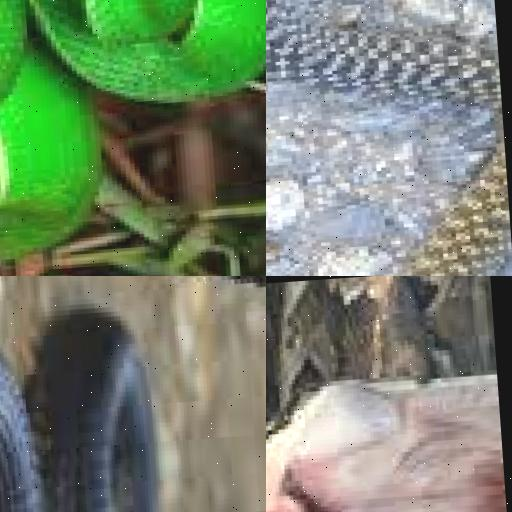snake: (0, 0, 266, 276), (266, 0, 512, 276), (0, 276, 266, 512), (266, 276, 512, 512)
